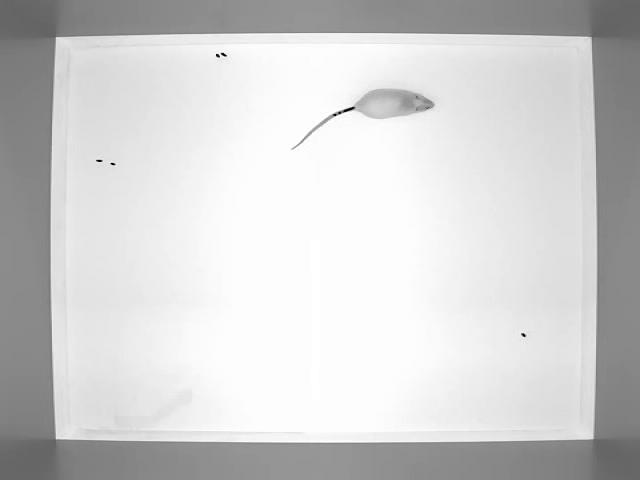Tikus: (286, 88, 447, 144)
